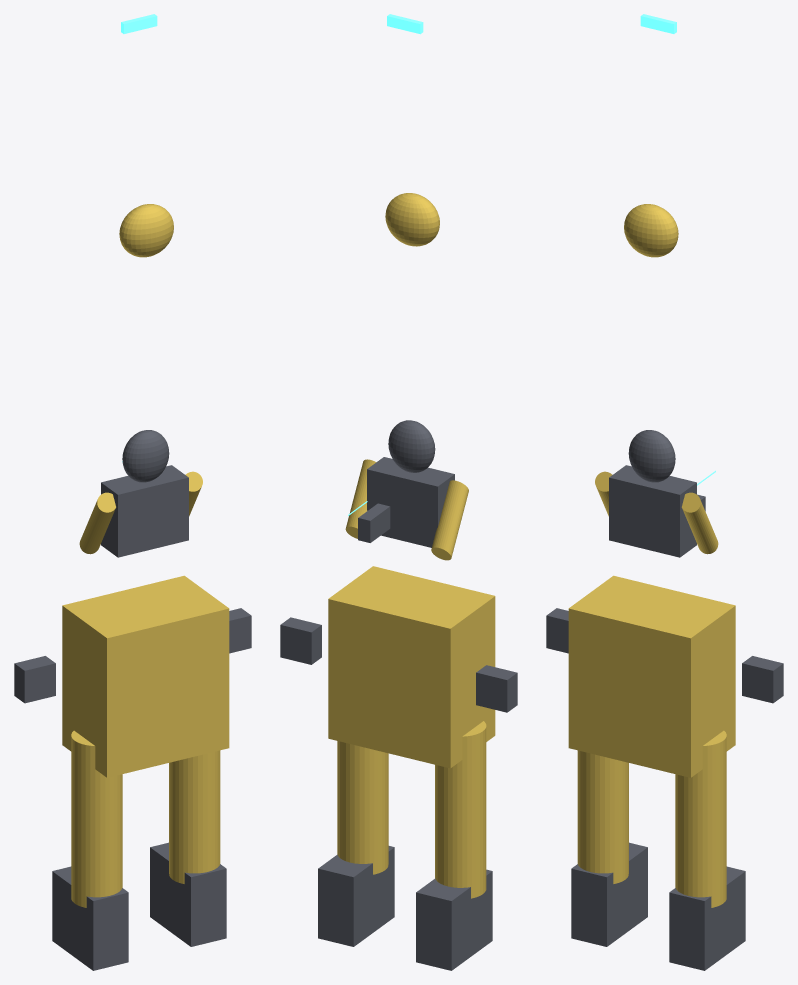
Rendered from CO_QianweiRifleman_LOD0.glb.
The picture shows the model from 3 angles, left to right: view 1: azimuth 30°, elevation 25°; view 2: azimuth 150°, elevation 25°; view 3: azimuth 330°, elevation 25°; orthographic projection.
Visible parts, largest first — view 1: Cube.004, Cylinder, Cylinder.001, Cube.005, Cube, Cube.001, Sphere.001, Sphere, Cube.002, Cylinder.002, Cube.003; view 2: Cube.004, Cylinder, Cylinder.001, Cube, Cube.001, Cube.005, Sphere.001, Sphere, Cube.002, Cube.003, Cylinder.002, Cube.007 (+1 smaller); view 3: Cube.004, Cylinder.001, Cylinder, Cube.005, Cube.001, Cube, Sphere.001, Sphere, Cube.003, Cylinder.003, Cube.002.
Boxes of the visible parts, box(x1,y1,x2,y2) form: Cube.004: box(62, 575, 229, 777); Cylinder: box(71, 730, 122, 907); Cylinder.001: box(169, 750, 220, 883); Cube.005: box(101, 465, 188, 557); Cube: box(52, 866, 128, 970); Cube.001: box(150, 842, 226, 946); Sphere.001: box(119, 204, 173, 257); Sphere: box(122, 430, 169, 482); Cube.002: box(14, 656, 55, 703); Cylinder.002: box(79, 492, 116, 554); Cube.003: box(229, 608, 251, 653); Cube.004: box(328, 566, 495, 768); Cylinder: box(435, 721, 486, 898); Cylinder.001: box(337, 741, 388, 874); Cube: box(416, 869, 492, 970); Cube.001: box(318, 846, 394, 946); Cube.005: box(367, 457, 454, 547); Sphere.001: box(385, 193, 439, 246); Sphere: box(388, 420, 435, 472); Cube.002: box(476, 665, 517, 712); Cube.003: box(280, 617, 321, 664); Cylinder.002: box(431, 480, 468, 560); Cube.007: box(358, 503, 390, 542); Cube.004: box(568, 575, 735, 777); Cylinder.001: box(675, 730, 726, 907); Cylinder: box(577, 750, 628, 883); Cube.005: box(609, 465, 696, 557); Cube.001: box(669, 866, 745, 970); Cube: box(571, 842, 647, 946); Sphere.001: box(624, 204, 678, 257); Sphere: box(628, 430, 675, 482); Cube.003: box(742, 656, 783, 703); Cylinder.003: box(681, 492, 718, 554); Cube.002: box(546, 608, 568, 653).
Size of what is drawn, in the model's own units: 1.02 by 3.96 by 0.5127.
